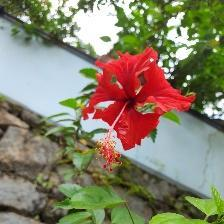hibiscus: (83, 44, 200, 174)
